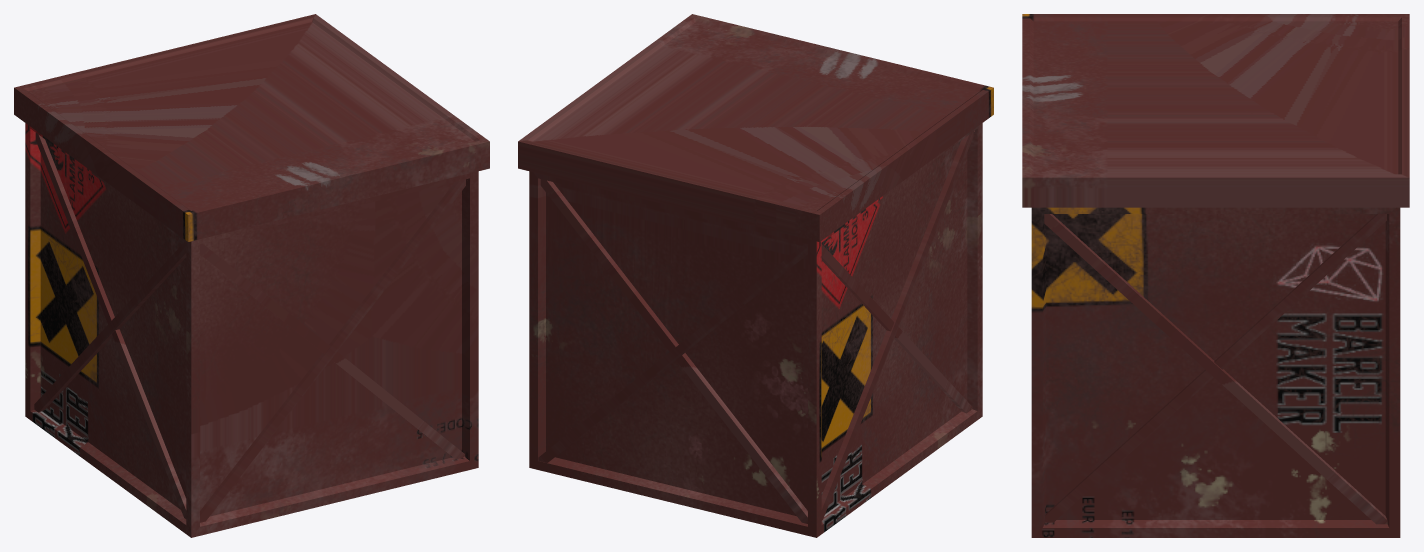
File: CS_irone_box.FBX
The picture shows the model from 3 angles, left to right: view 1: azimuth 30°, elevation 25°; view 2: azimuth 150°, elevation 25°; view 3: azimuth 270°, elevation 25°; orthographic projection. The views are drawn at different scales.
Visible parts, largest first — view 1: SM_irone_box; view 2: SM_irone_box; view 3: SM_irone_box.
Boxes of the visible parts, x1=… form: SM_irone_box: x1=14, y1=14, x2=489, y2=537; SM_irone_box: x1=518, y1=14, x2=993, y2=537; SM_irone_box: x1=1022, y1=14, x2=1409, y2=537.
Size of the model in its own units: 105 by 105 by 109.
